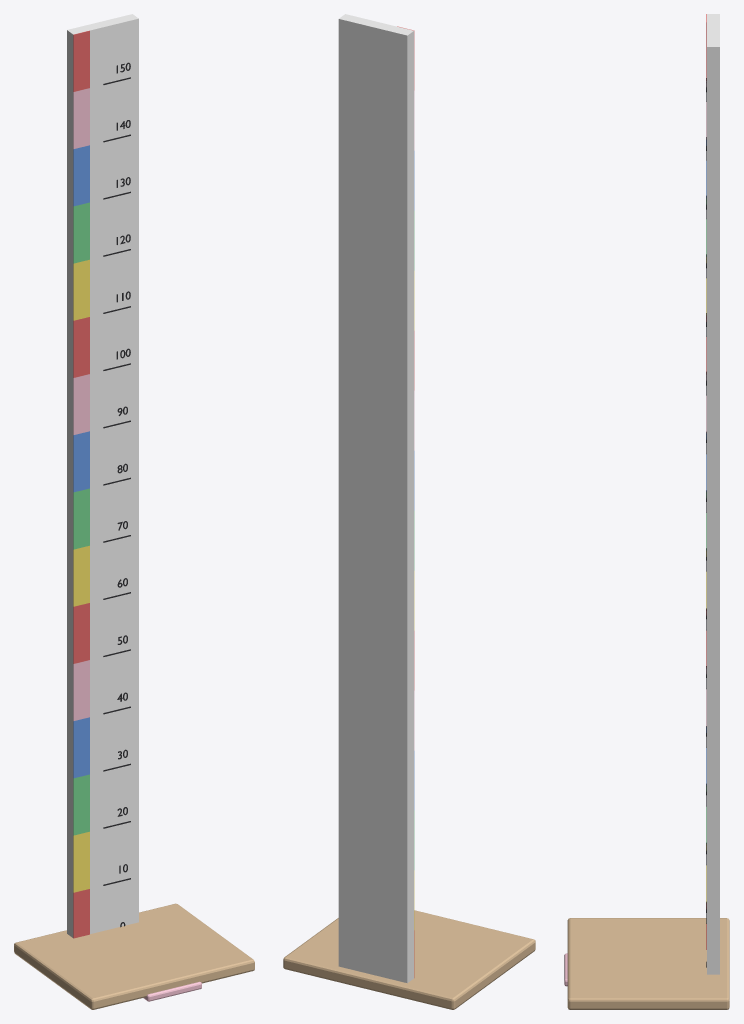
File: height_chart.glb
The picture shows the model from 3 angles, left to right: view 1: azimuth 30°, elevation 25°; view 2: azimuth 150°, elevation 25°; view 3: azimuth 270°, elevation 25°; orthographic projection. The views are drawn at different scales.
Parts seen in each view (by area): view 1: hc_board, hc_foot, hc_band15, hc_band2, hc_band7, hc_band12, hc_band3, hc_band8, hc_band1, hc_band6, hc_band11, hc_band13 (+6 smaller); view 2: hc_board, hc_foot; view 3: hc_foot, hc_board.
Part boxes in pixels (x1,y1,x2,y2): hc_board: (67,14,138,937); hc_foot: (14,903,254,1009); hc_band15: (73,30,89,91); hc_band2: (73,774,89,835); hc_band7: (73,488,89,549); hc_band12: (73,202,89,263); hc_band3: (73,717,89,778); hc_band8: (73,431,89,492); hc_band1: (73,831,89,892); hc_band6: (73,545,89,606); hc_band11: (73,259,89,320); hc_band13: (73,145,89,206); hc_board: (338,14,413,983); hc_foot: (283,910,535,1009); hc_foot: (567,918,729,1009); hc_board: (707,14,719,974).
Size of the model in its own units: 0.3 by 1.61 by 0.255.
